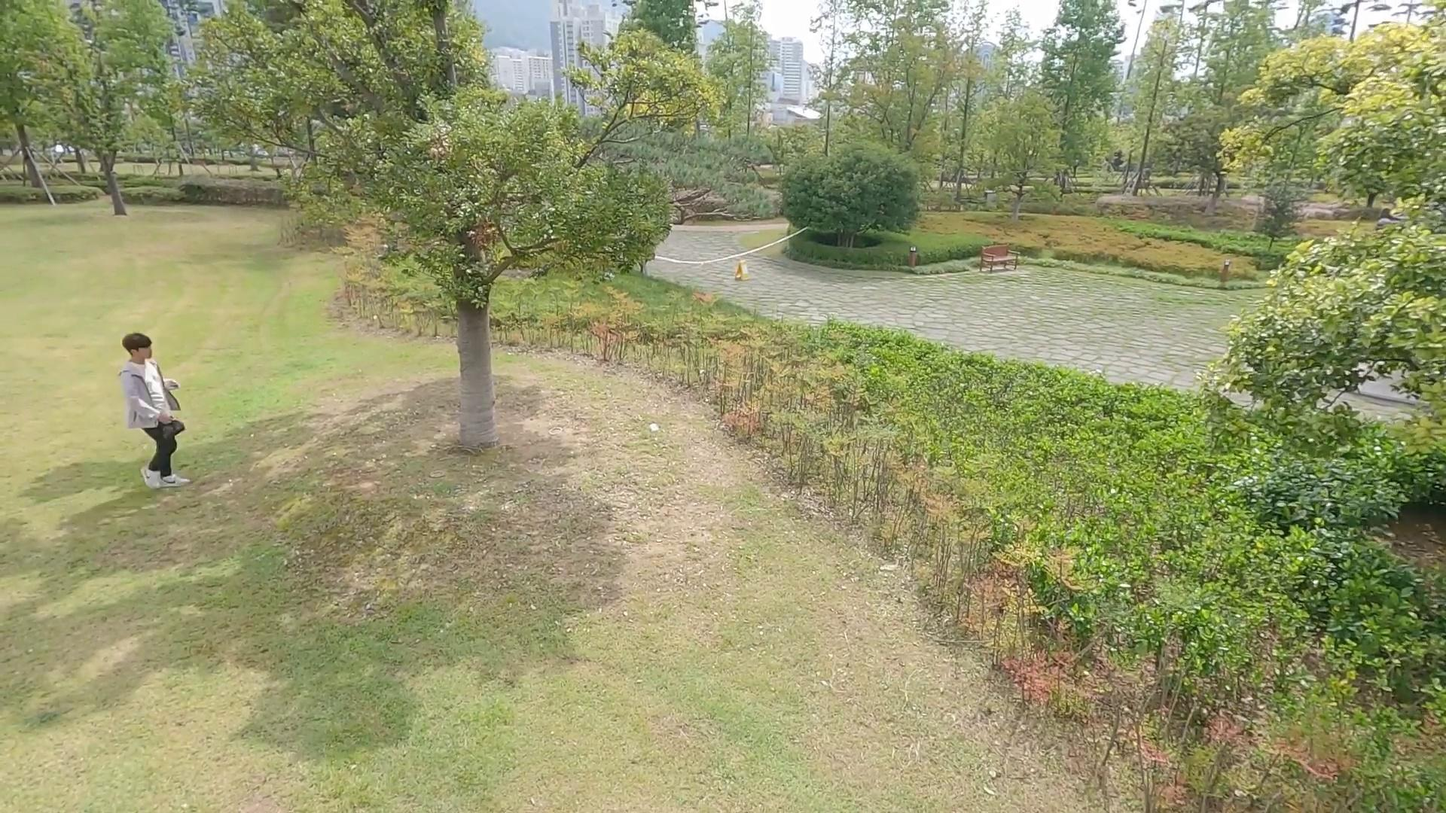person: (122, 331, 194, 491)
trash: (162, 418, 186, 441), (650, 422, 658, 431)
